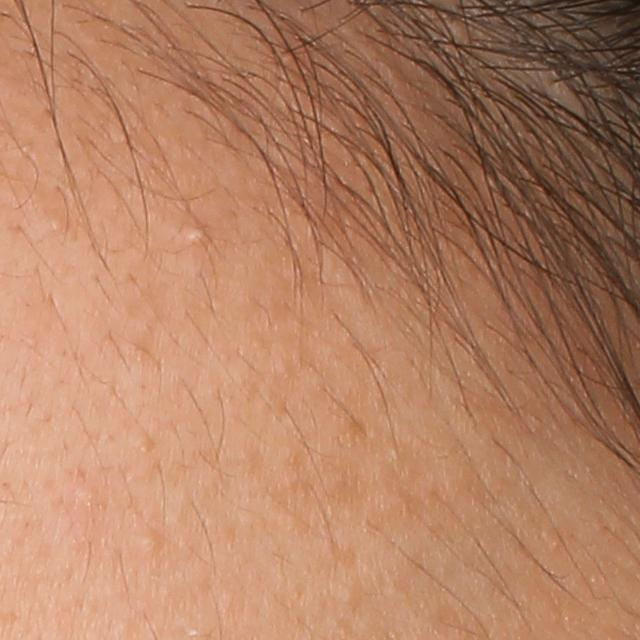comedo: (177, 218, 212, 251), (137, 531, 165, 561), (44, 212, 69, 238)
